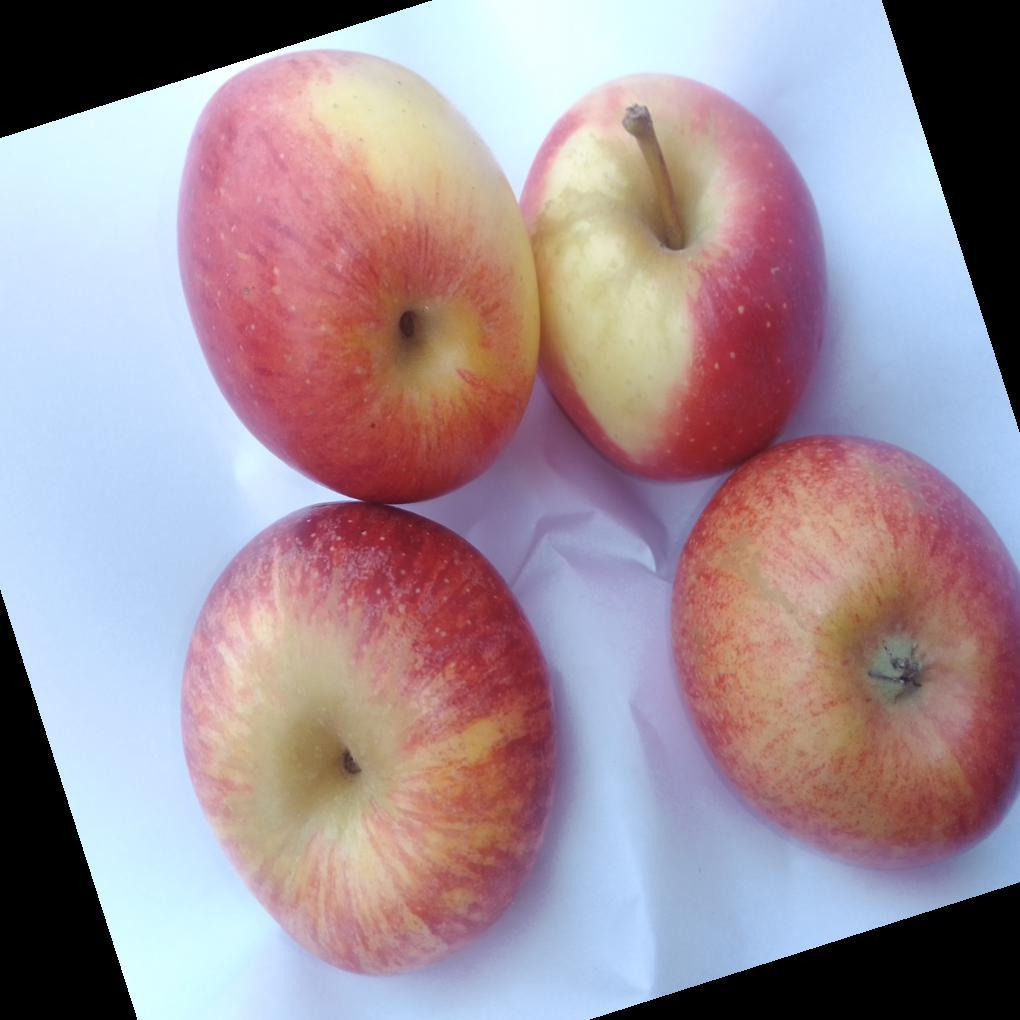FreshGuava: (176, 49, 1020, 979)
